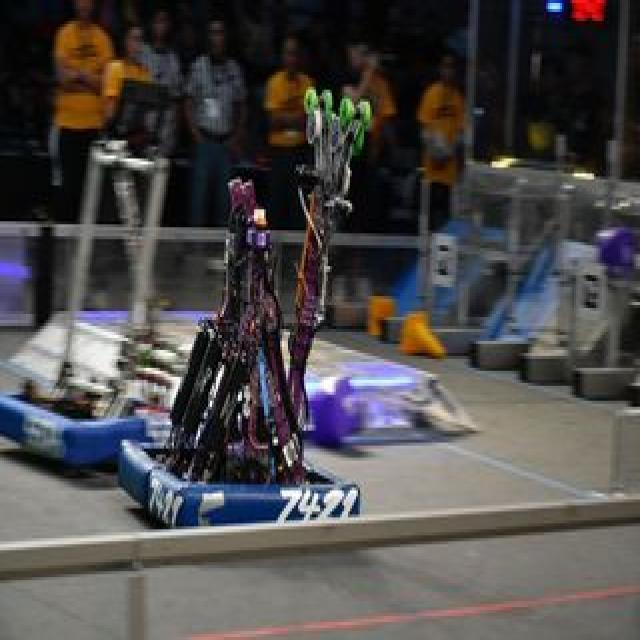robot: (118, 109, 373, 541), (0, 137, 201, 469)
